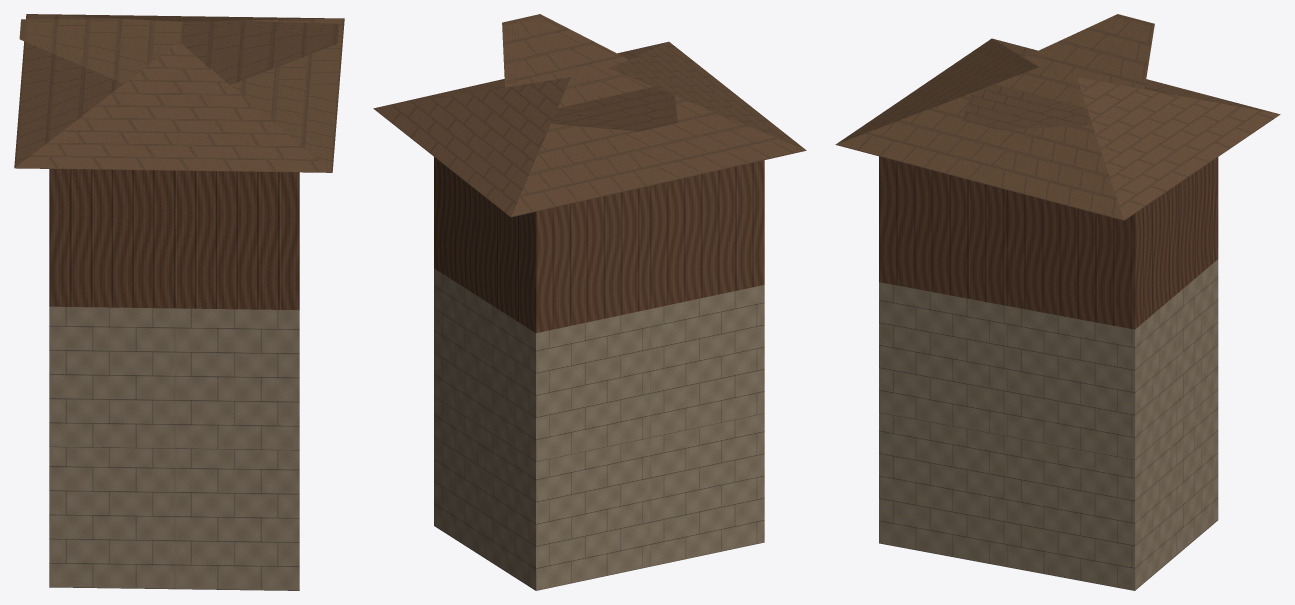
The model's file is bld_c-34_-38_873.gltf.
3 renders of one model, left to right at view 1: azimuth 30°, elevation 25°; view 2: azimuth 150°, elevation 25°; view 3: azimuth 270°, elevation 25°, orthographic. The views are drawn at different scales.
Visible parts, largest first — view 1: bld_c-34_-38_873; view 2: bld_c-34_-38_873; view 3: bld_c-34_-38_873.
Part boxes in pixels (x1,y1,x2,y2): bld_c-34_-38_873: (14, 14, 344, 590); bld_c-34_-38_873: (373, 14, 806, 590); bld_c-34_-38_873: (835, 14, 1280, 590).
Bounding box in the file's own units: 6.79 × 8 × 7.02.
Materials: 3 (3 with a texture image).
